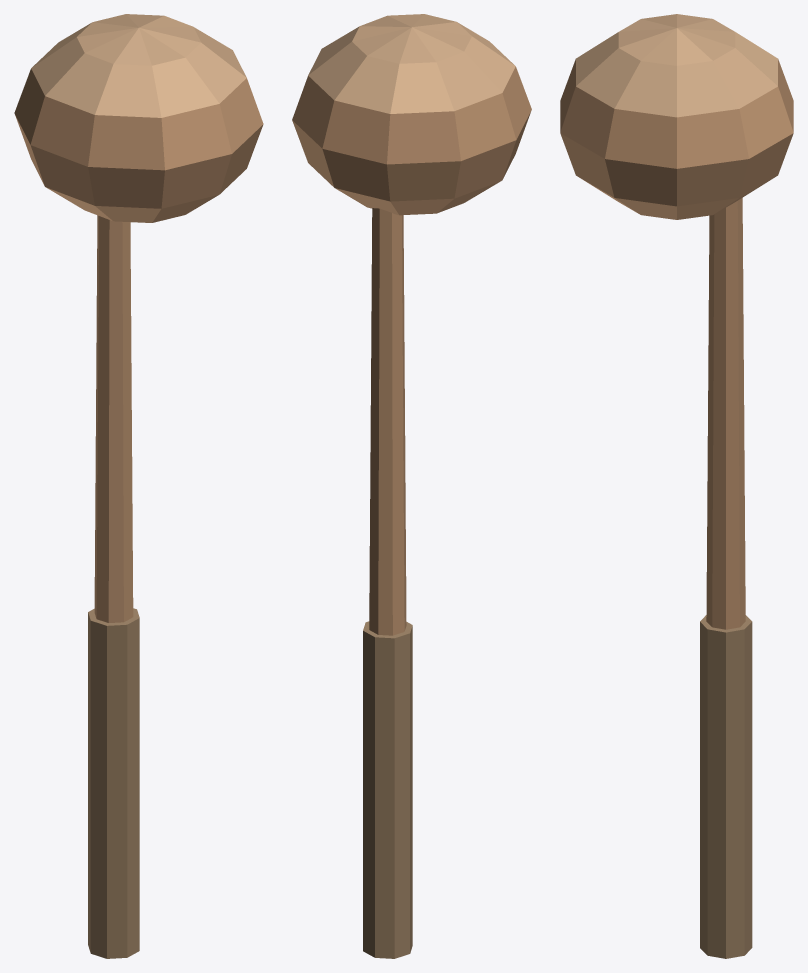
The model's file is ladle_of_justice.glb.
The picture shows the model from 3 angles, left to right: view 1: azimuth 30°, elevation 25°; view 2: azimuth 150°, elevation 25°; view 3: azimuth 270°, elevation 25°; orthographic projection. The views are drawn at different scales.
Visible parts, largest first — view 1: ladle_of_justice; view 2: ladle_of_justice; view 3: ladle_of_justice.
Part boxes in pixels (left/top/right/bottom): ladle_of_justice: left=14, top=14, right=263, bottom=958; ladle_of_justice: left=292, top=14, right=531, bottom=958; ladle_of_justice: left=560, top=14, right=793, bottom=958.
Bounding box in the file's own units: 0.15 × 0.62 × 0.1427.
